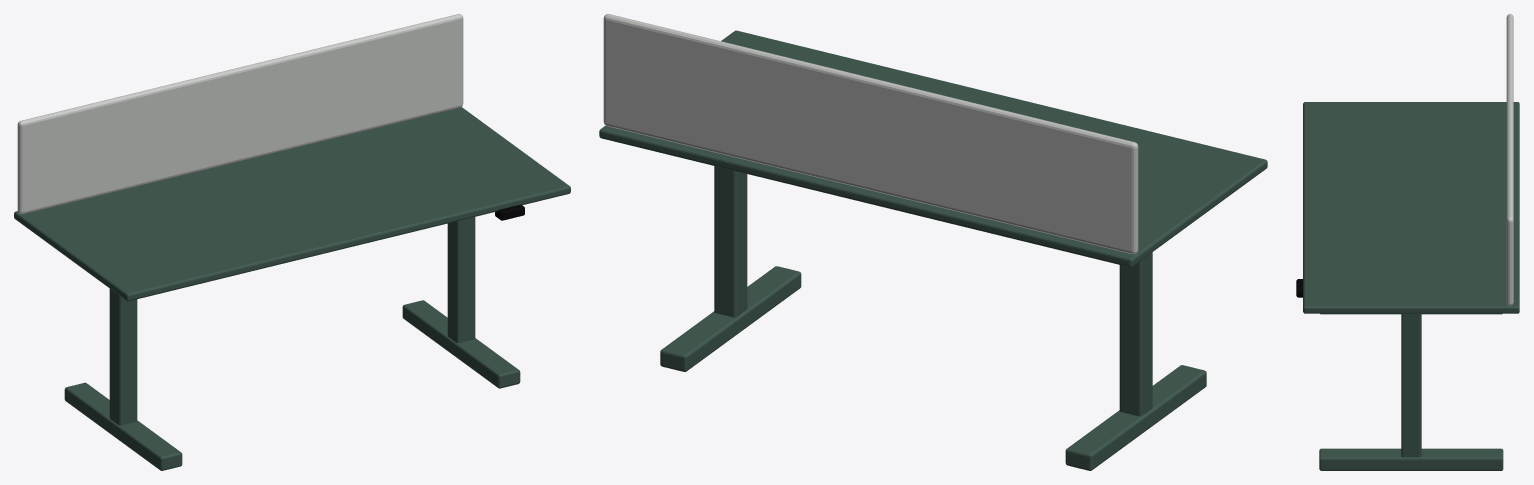
The model's file is 21_升降员工桌_员工区_旋转90_带贴图.glb.
3 views of the same model, side by side, from view 1: azimuth 30°, elevation 25°; view 2: azimuth 150°, elevation 25°; view 3: azimuth 270°, elevation 25° (orthographic). The views are drawn at different scales.
Parts seen in each view (by area): view 1: PDF_21_升降员工桌_员工区; view 2: PDF_21_升降员工桌_员工区; view 3: PDF_21_升降员工桌_员工区.
Boxes of the visible parts, box(x1,y1,x2,y2) form: PDF_21_升降员工桌_员工区: box(14, 14, 570, 470); PDF_21_升降员工桌_员工区: box(599, 14, 1267, 470); PDF_21_升降员工桌_员工区: box(1296, 14, 1519, 470).
Size of the model in its own units: 1.8 by 1.11 by 0.825.
3 materials, 3 textured.
